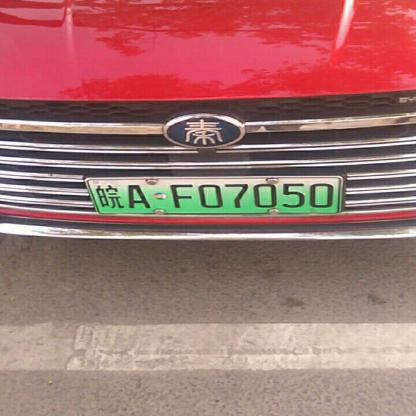lp: (88, 179, 340, 213)
